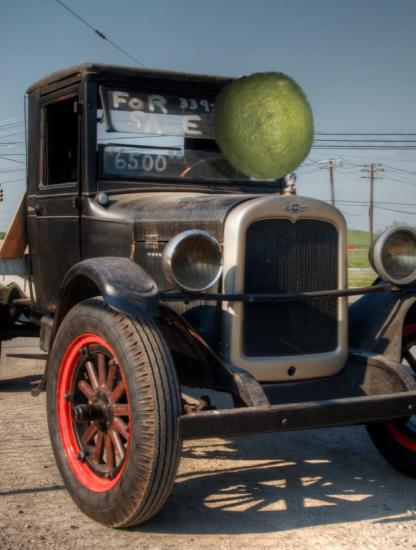Limes: (210, 72, 321, 183)
